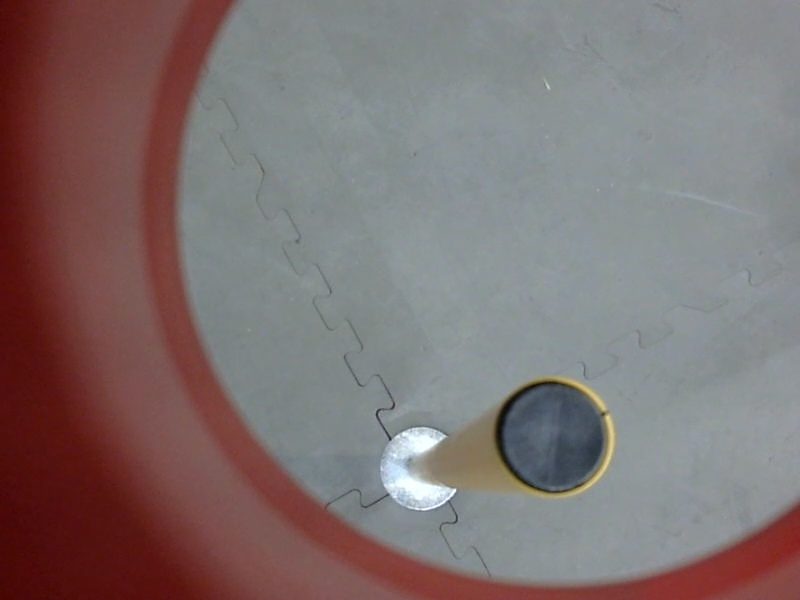tip: (488, 368, 623, 504)
